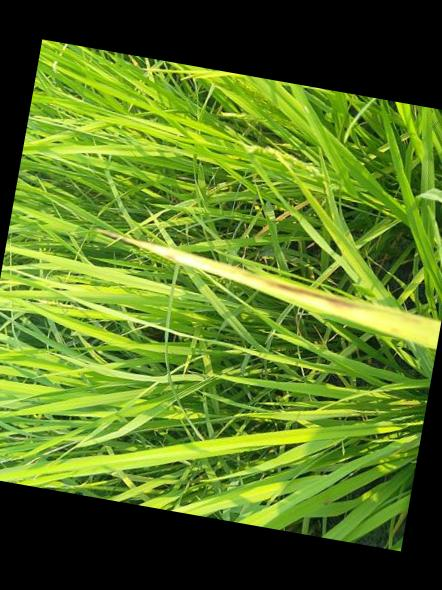Leaf Blight: (117, 234, 353, 325)
